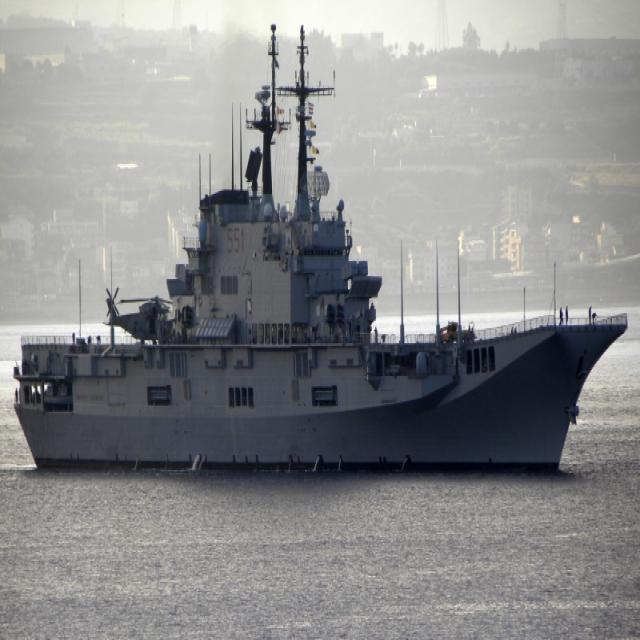Portanaves: (12, 16, 632, 483)
